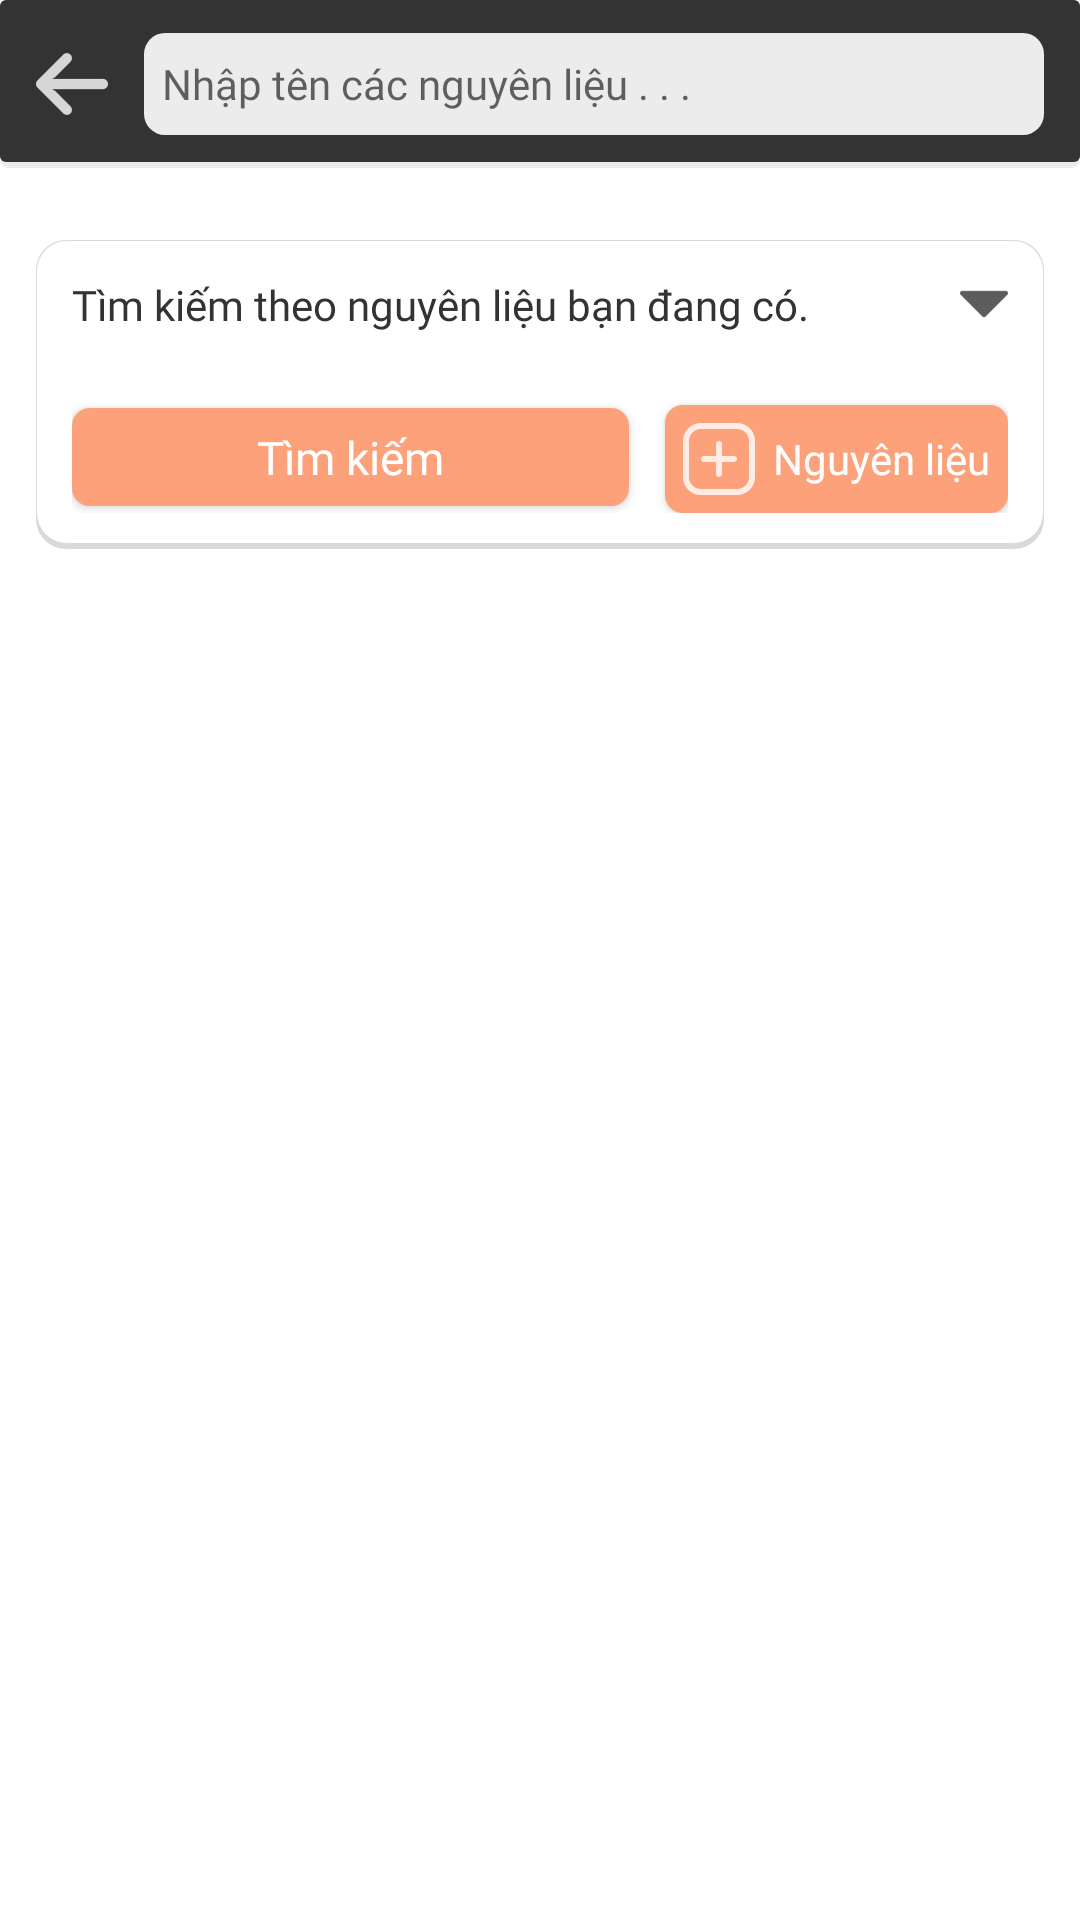

Icon click points for this 1080×1920 phone screenshot, format [x,y]:
back: [72,84]
down while: [984,303]
